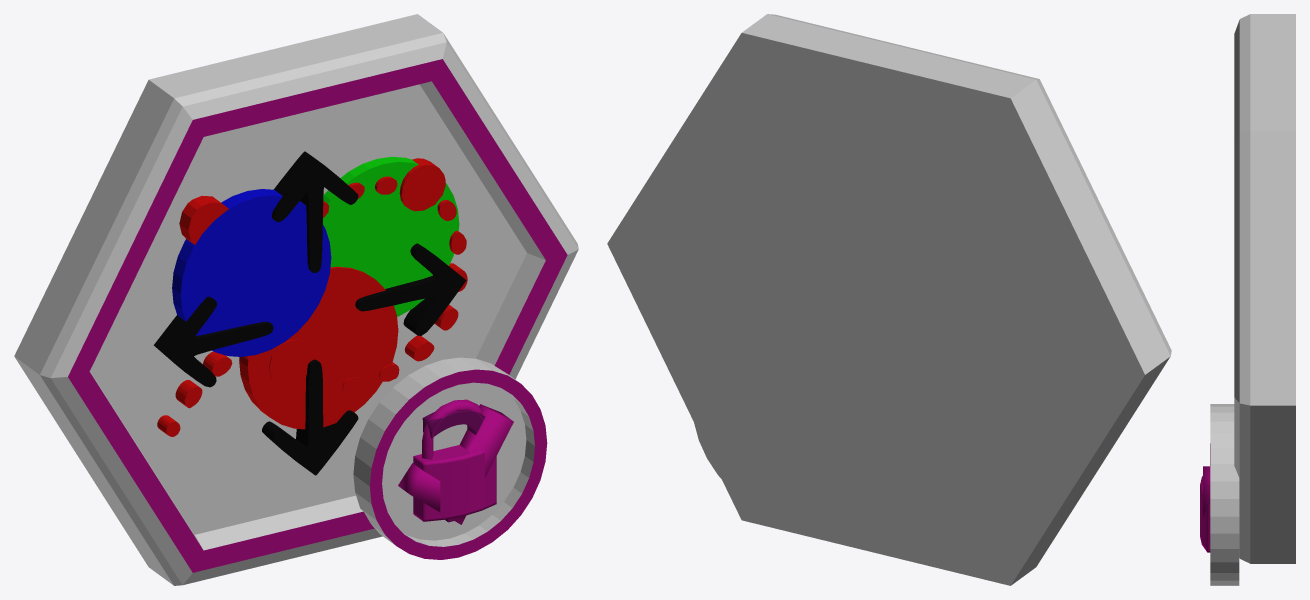
The model's file is planar_locked.dae.
3 views of the same model, side by side, from view 1: azimuth 30°, elevation 25°; view 2: azimuth 150°, elevation 25°; view 3: azimuth 270°, elevation 25° (orthographic). The views are drawn at different scales.
Visible parts, largest first — view 1: node, kColor, Hamiltonian, Checkmark, Question; view 2: node; view 3: node, Checkmark.
Part boxes in pixels (x1=…): node: x1=14, y1=14, x2=578, y2=585; kColor: x1=172, y1=156, x2=459, y2=429; Hamiltonian: x1=157, y1=158, x2=467, y2=436; Checkmark: x1=398, y1=404, x2=513, y2=524; Question: x1=422, y1=410, x2=484, y2=522; node: x1=607, y1=14, x2=1171, y2=585; node: x1=1200, y1=14, x2=1295, y2=585; Checkmark: x1=1203, y1=466, x2=1210, y2=518.
Size of the model in its own units: 2 by 0.3477 by 1.8.
